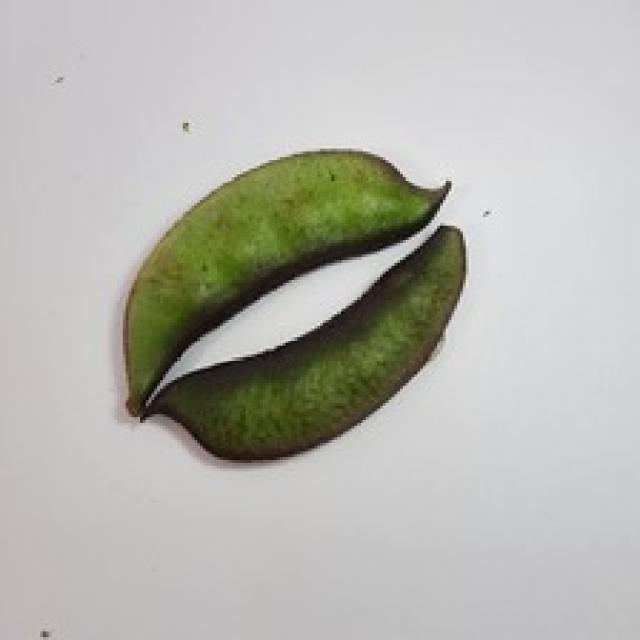Bean: (120, 146, 451, 417)
